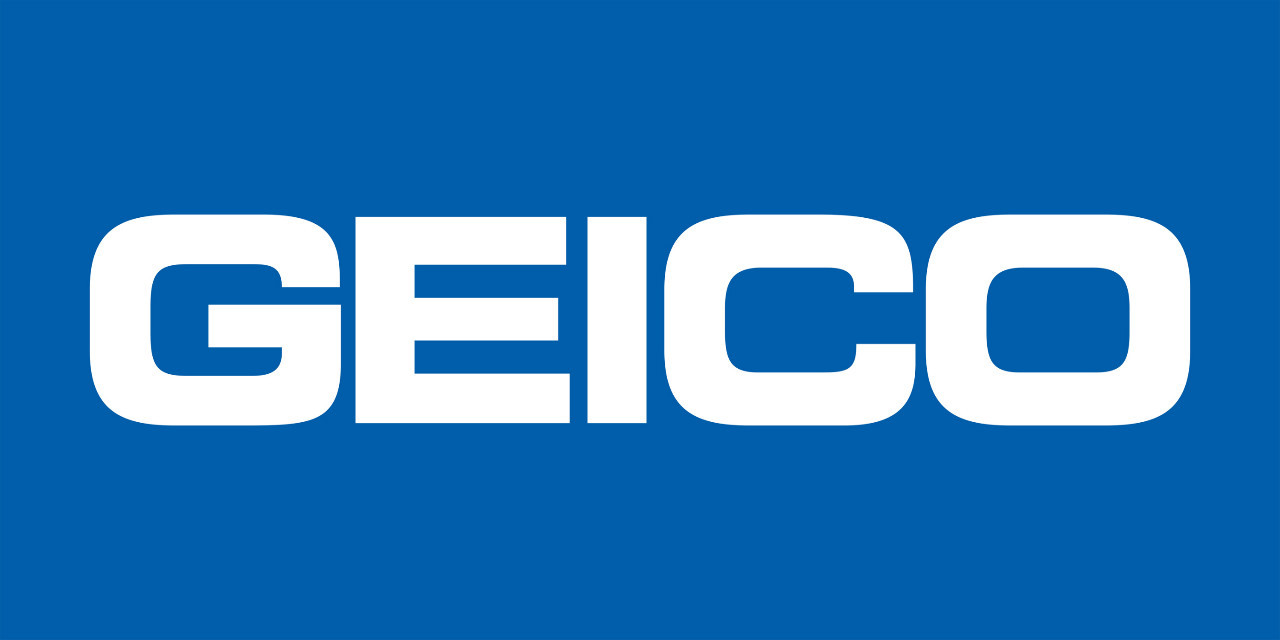geico: (84, 196, 1205, 431)
